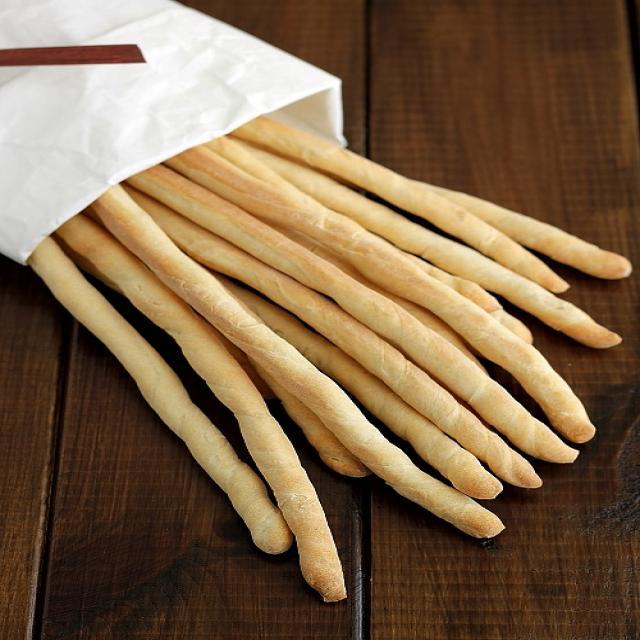Grissini: (33, 109, 629, 589)
